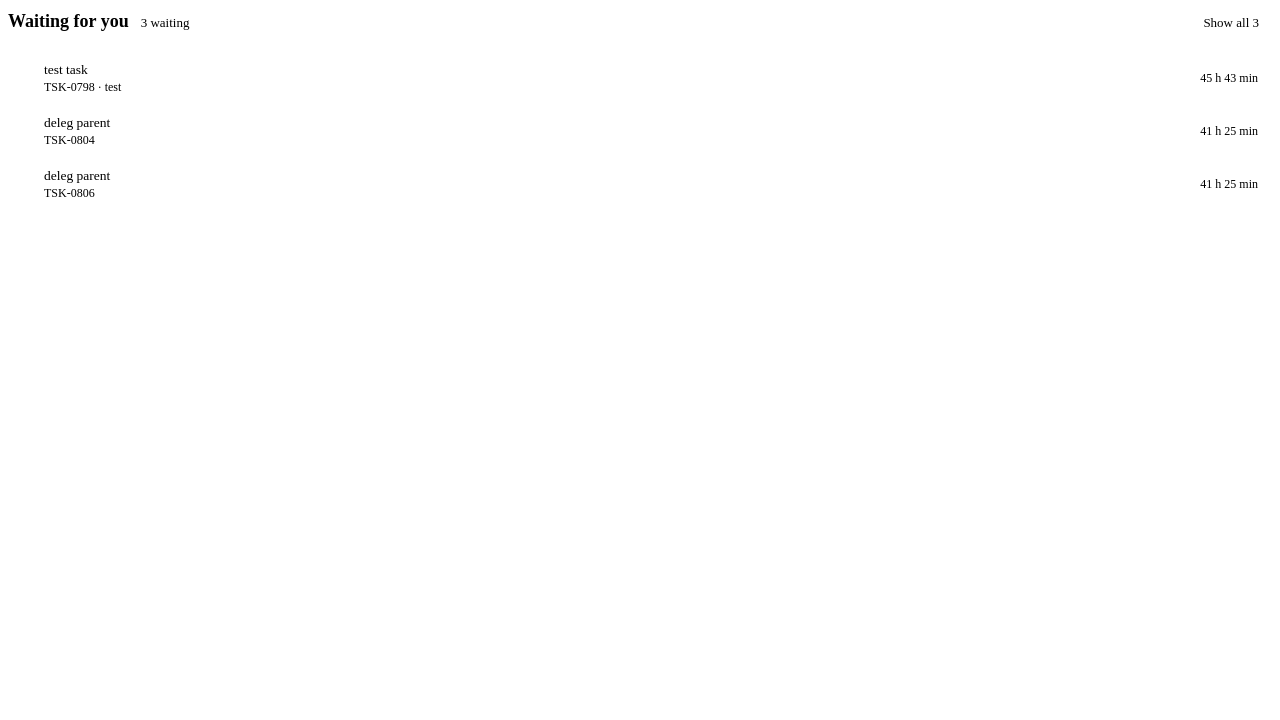
Inbox panel: the whole list › opens from the summary and shows counts and one list per kind
Click the button "Show all 3". click: (1231, 22)
box: [1190,8,1272,36]
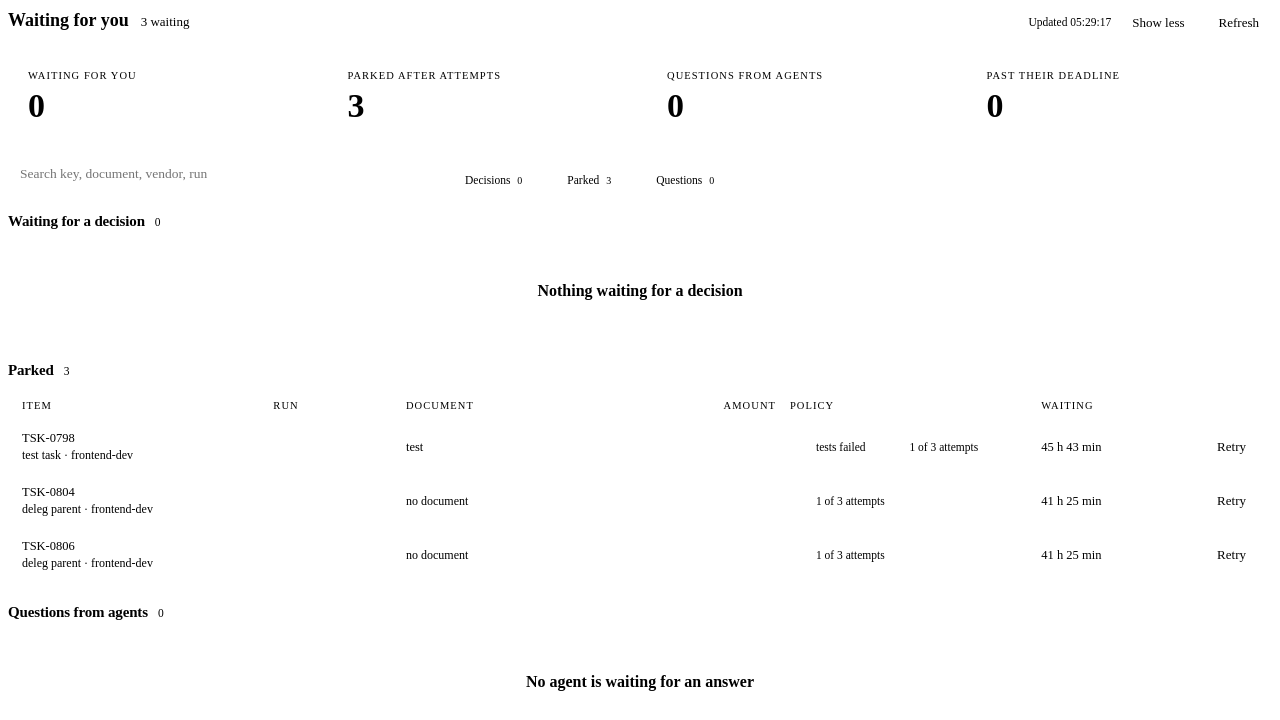
Expected: the number of links is 3, [22,431,1246,462]; [22,485,1246,516]; [22,539,1246,570]
Expected: the text "Parked after attempts" is shown, [348,70,501,81]
